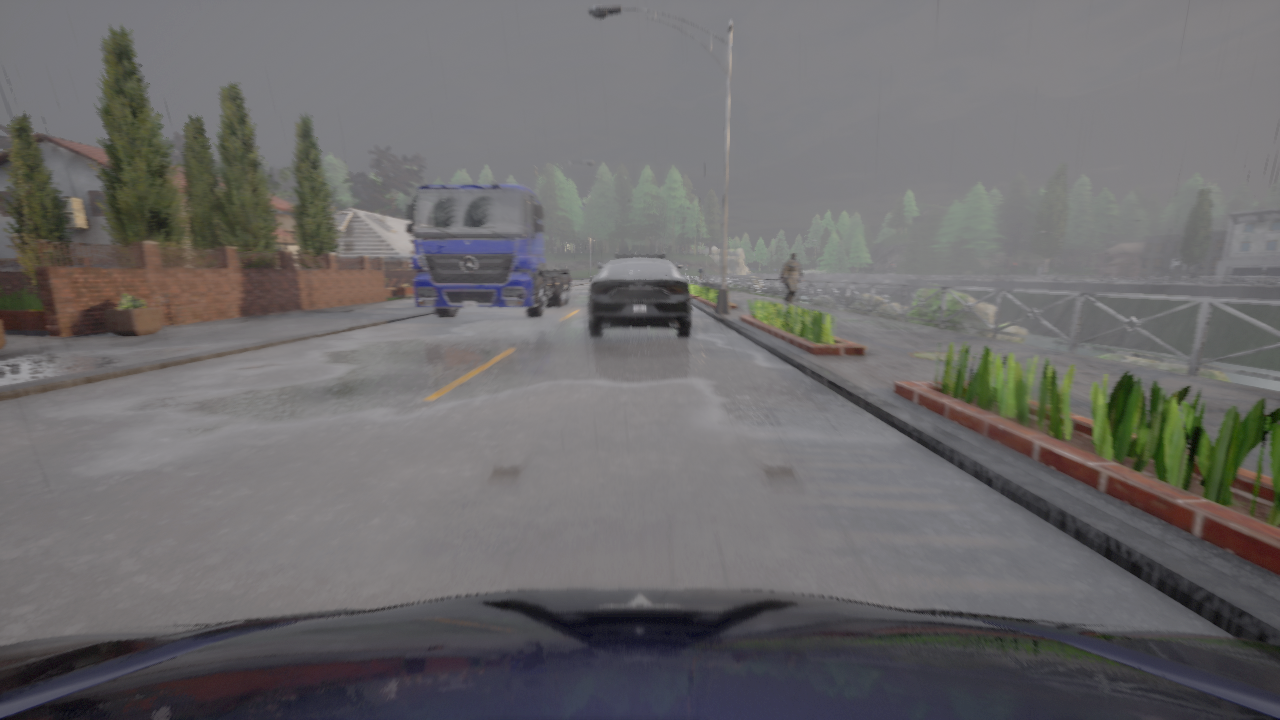cyclist: (0, 588, 1279, 719), (406, 184, 570, 318), (588, 253, 691, 336)
pedestrian: (780, 257, 803, 304), (782, 252, 800, 305), (697, 264, 704, 285)
